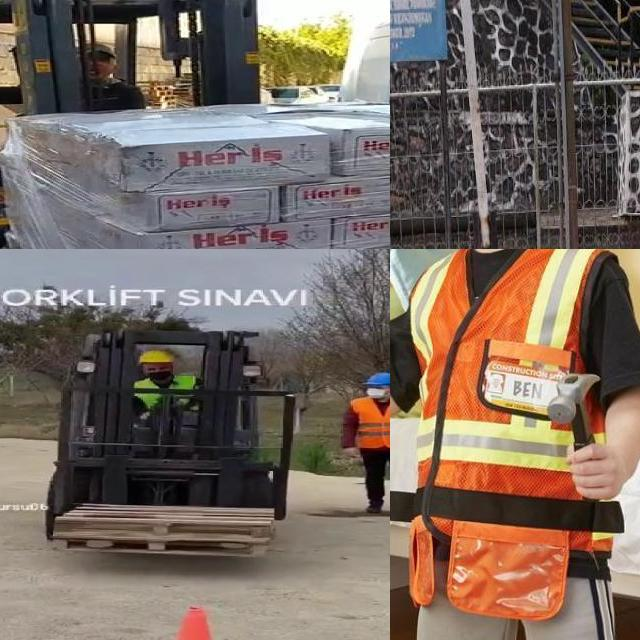VEST: (407, 249, 615, 618)
